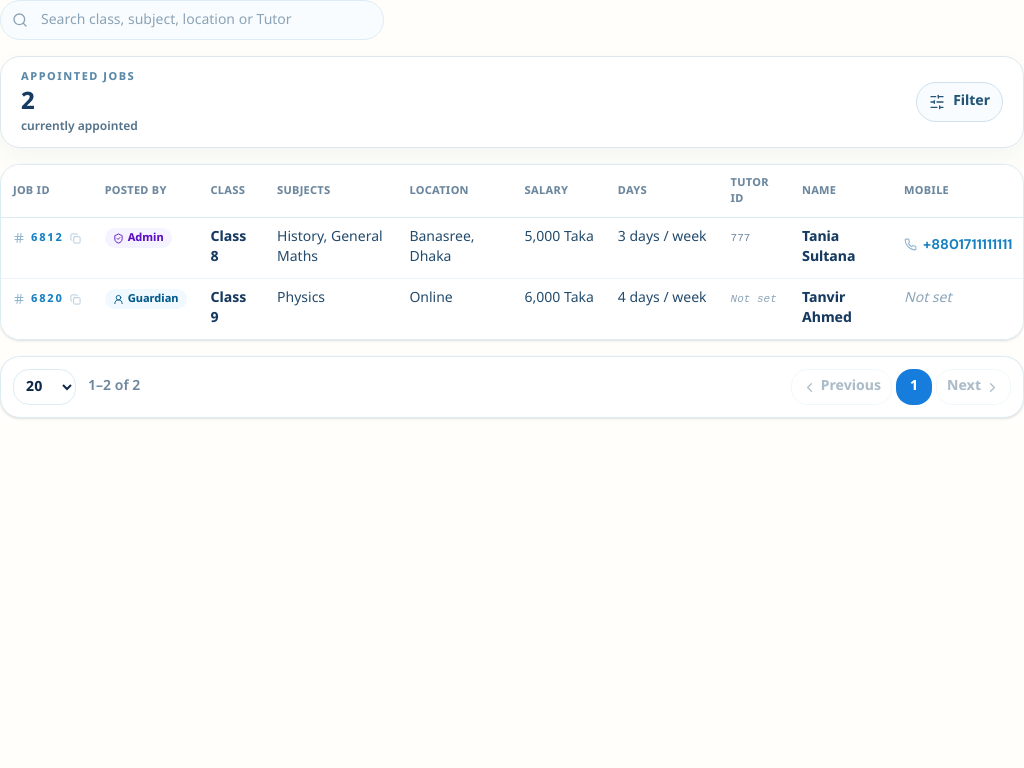
Test case: the filter card and panel › offers the Job Board's fields and the Admin's, and no Country
Click the button "Filter": coordinates (960, 102) [916,82,1003,122]
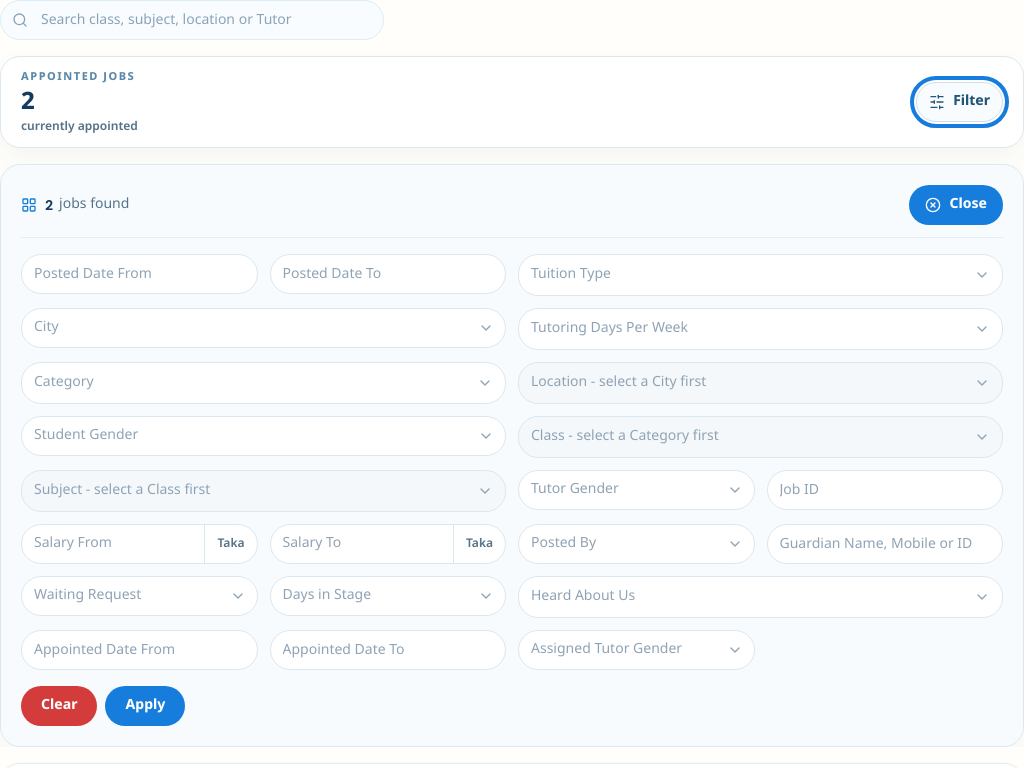
Expected: the dropdown named "City" is shown, [21,308,506,348]
Expected: the dropdown named "Student Gender" is shown, [21,416,506,456]
Expected: the dropdown named "Tutor Gender" is shown, [518,470,754,510]
